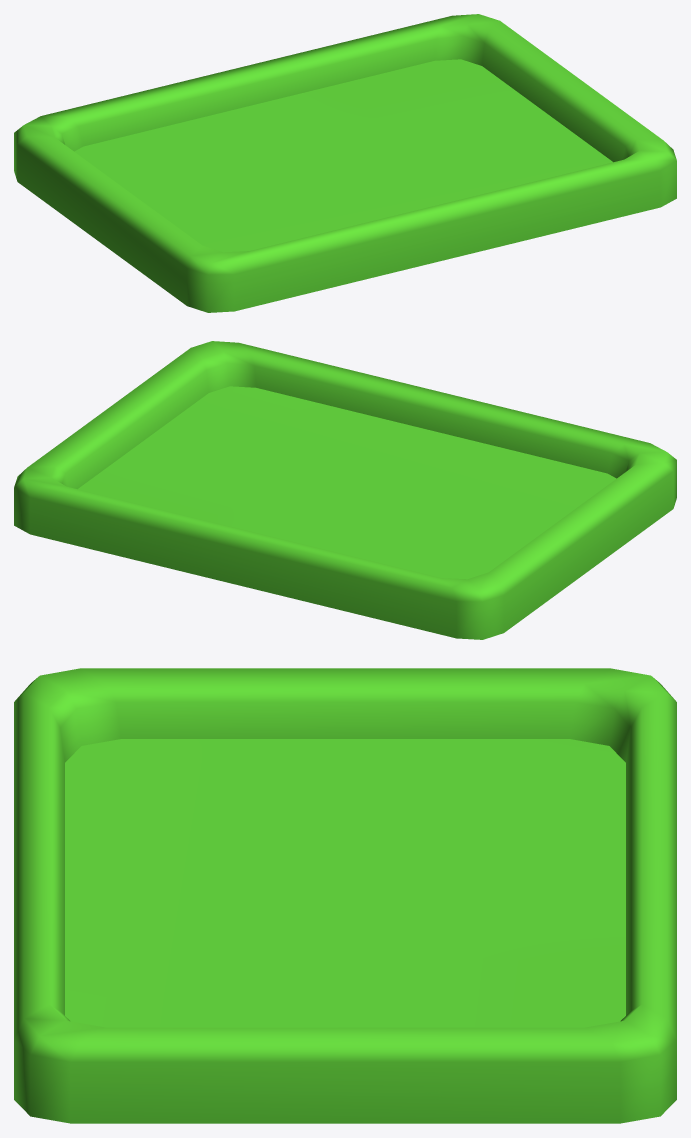
Rendered from Tray.fbx.
3 renders of one model, top to bottom at view 1: azimuth 30°, elevation 25°; view 2: azimuth 150°, elevation 25°; view 3: azimuth 270°, elevation 25°, orthographic. The views are drawn at different scales.
Parts seen in each view (by area): view 1: Tray; view 2: Tray; view 3: Tray.
Boxes of the visible parts, left/top/right/bottom form: Tray: left=14, top=14, right=676, bottom=312; Tray: left=14, top=341, right=676, bottom=639; Tray: left=14, top=668, right=676, bottom=1123.
Bounding box in the file's own units: 79.2 × 7.2 × 57.6.
